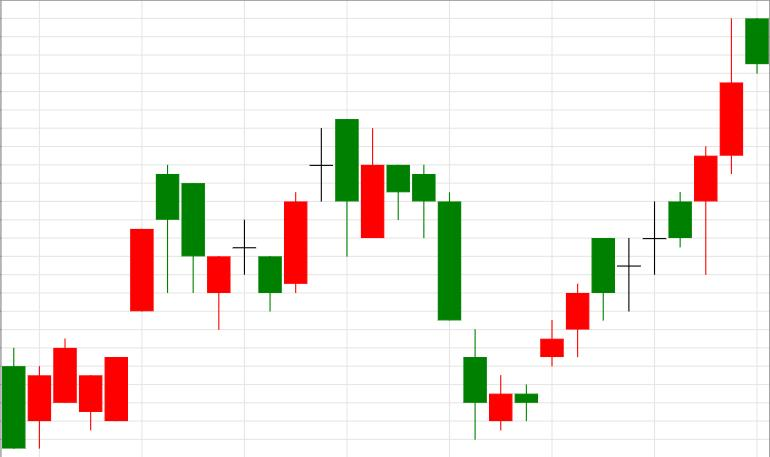hanging_man_fall: (540, 146, 718, 367), (79, 165, 179, 432)
